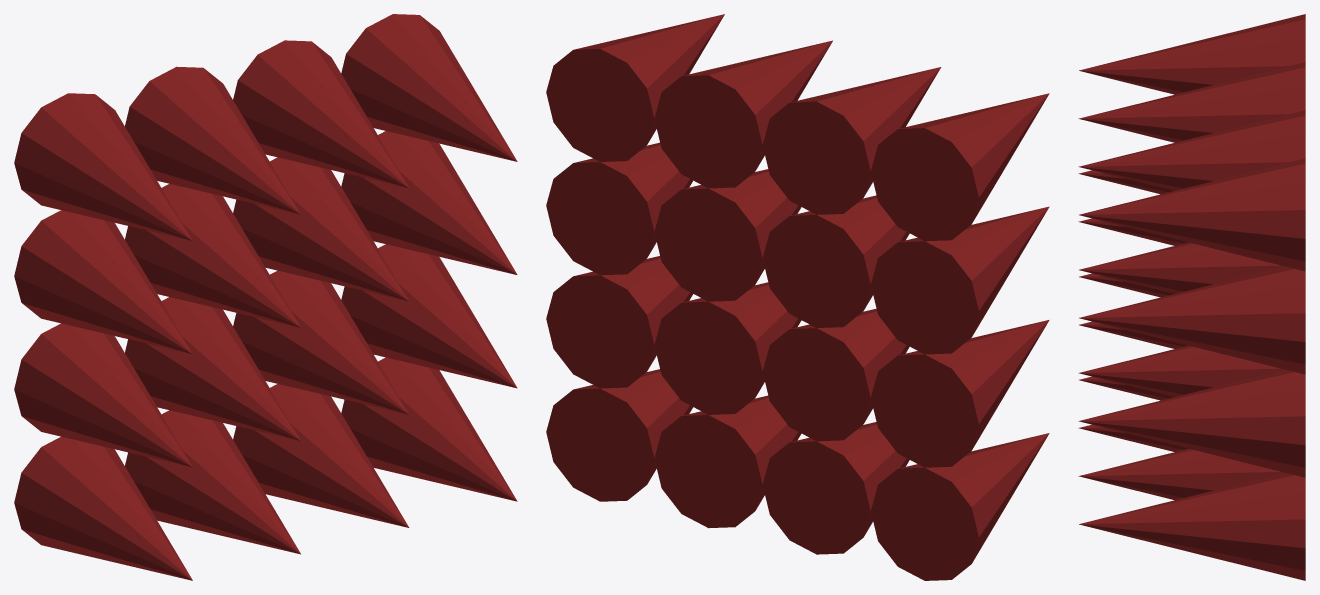
File: SpikeWall.fbx
3 renders of one model, left to right at view 1: azimuth 30°, elevation 25°; view 2: azimuth 150°, elevation 25°; view 3: azimuth 270°, elevation 25°, orthographic. The views are drawn at different scales.
Parts seen in each view (by area): view 1: pCone17; view 2: pCone17; view 3: pCone17.
Part boxes in pixels (x1,y1,x2,y2): pCone17: (14,14,517,580); pCone17: (546,14,1049,580); pCone17: (1078,14,1305,580).
Bounding box in the file's own units: 400 × 400 × 200.
